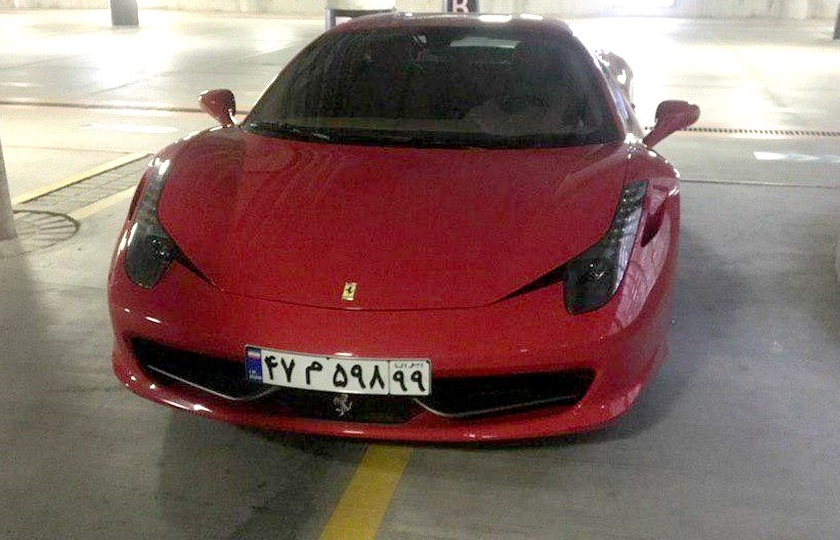car: (247, 348, 429, 398)
